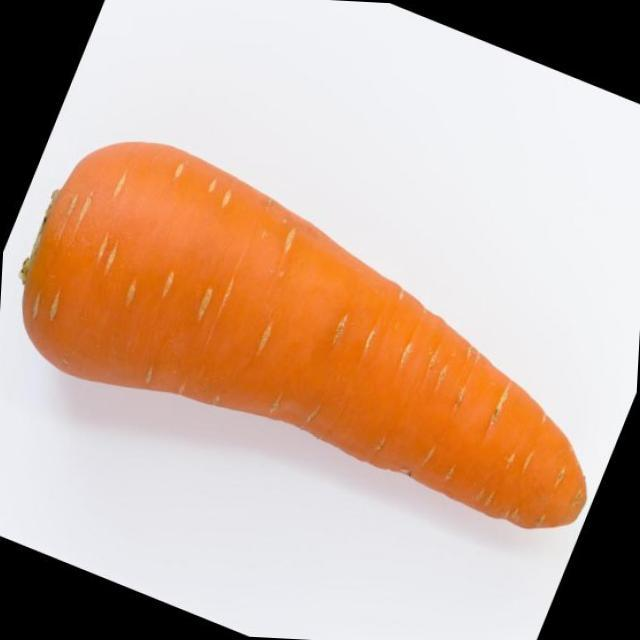carrot: (0, 91, 640, 601)
